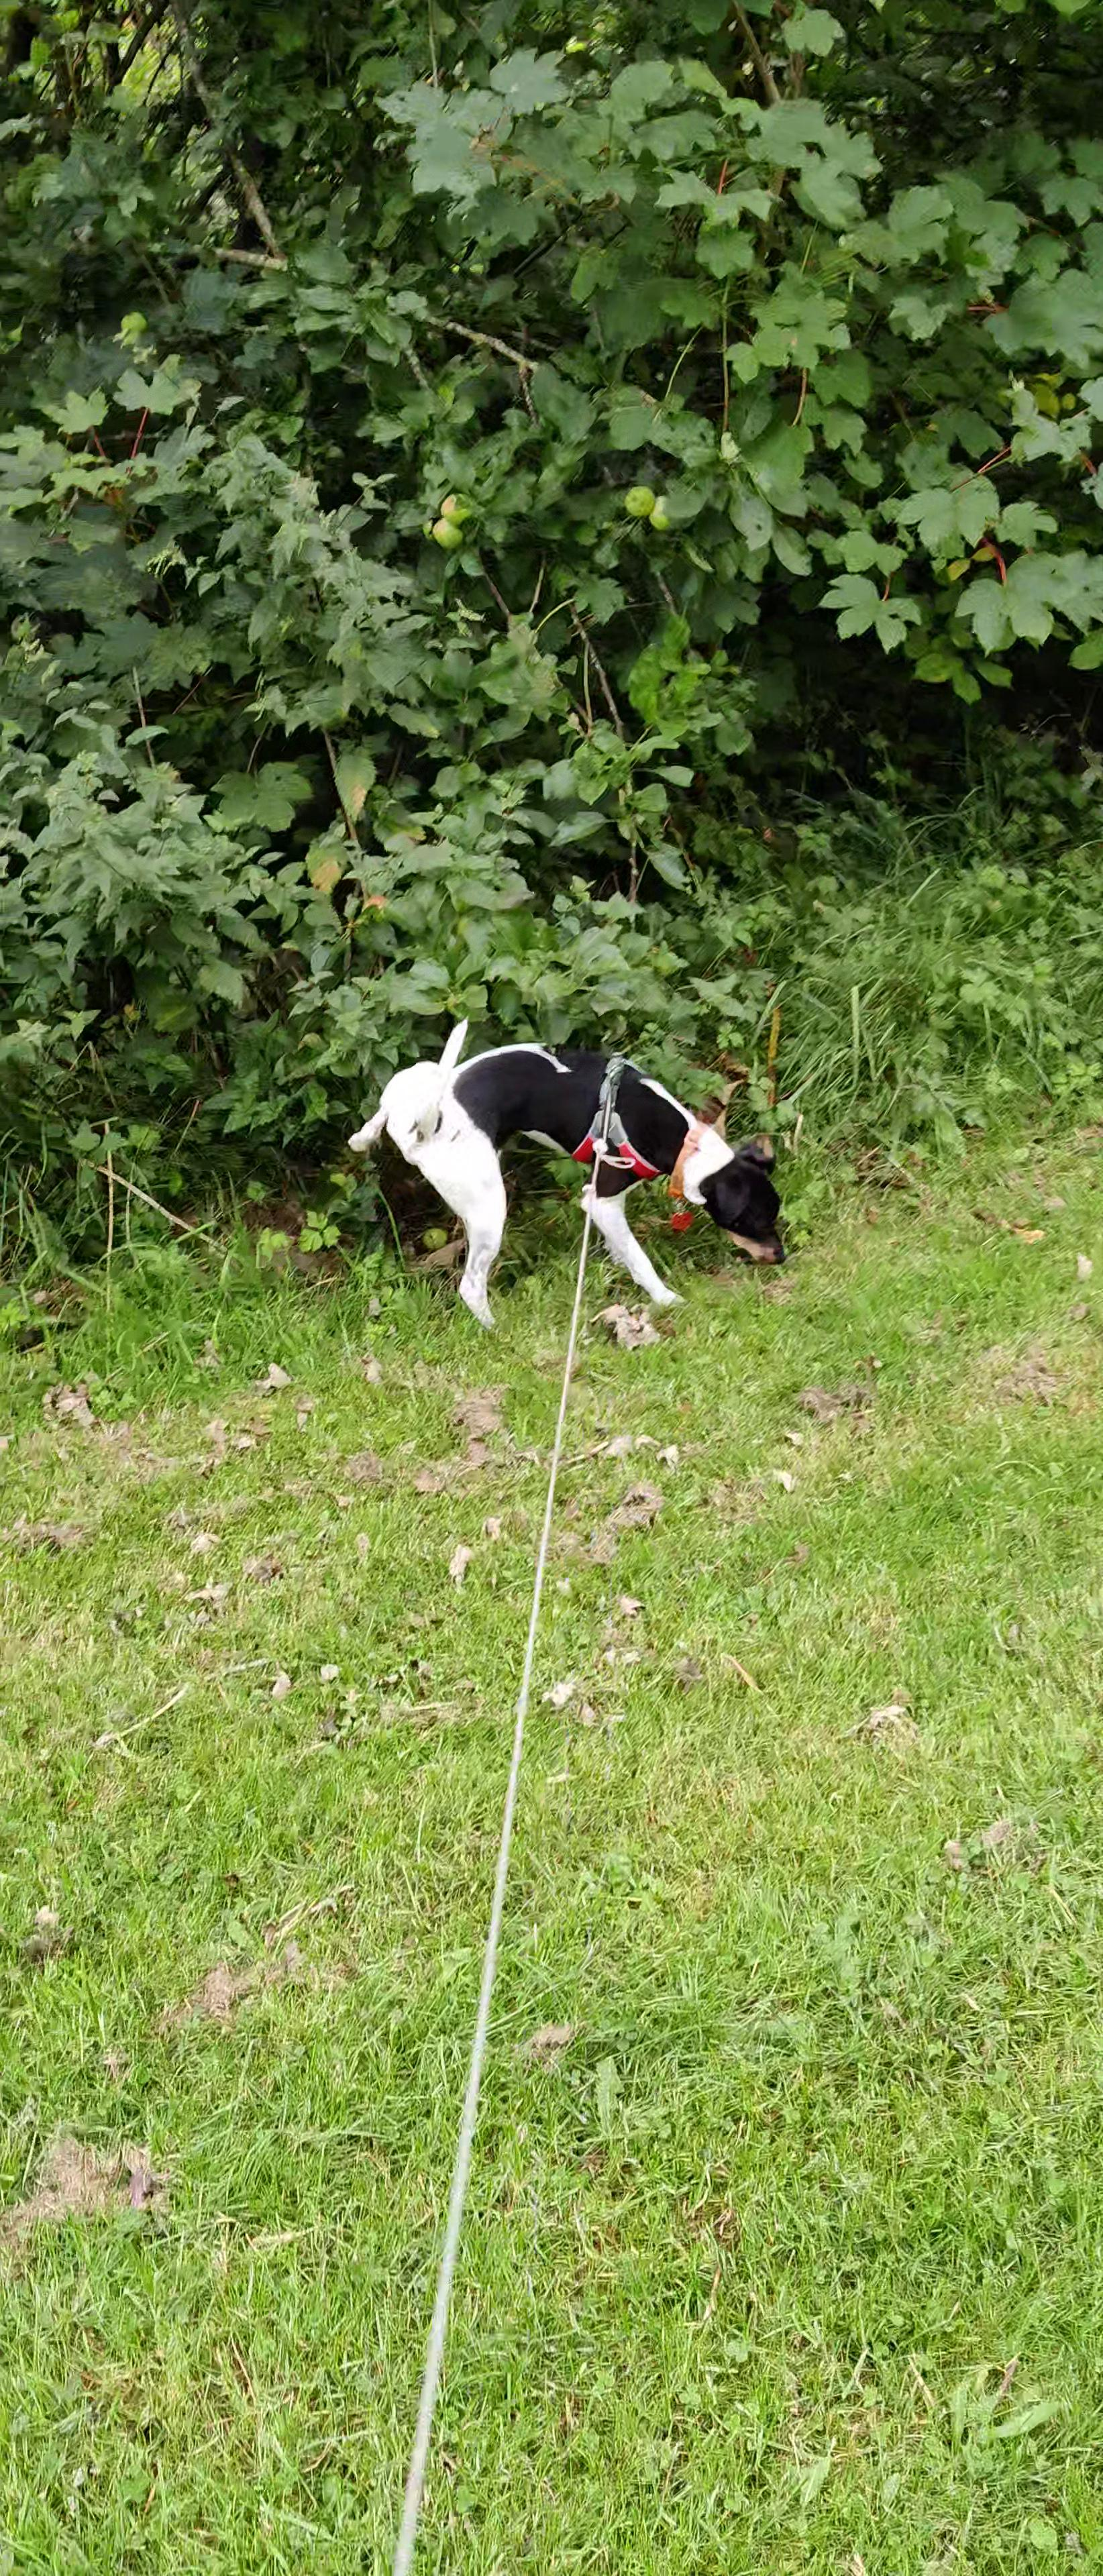Dog: (337, 999, 817, 1329)
